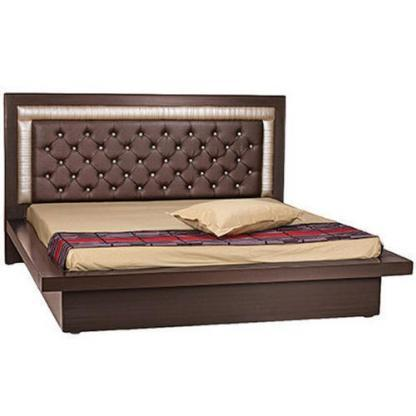bed: (12, 67, 409, 341)
